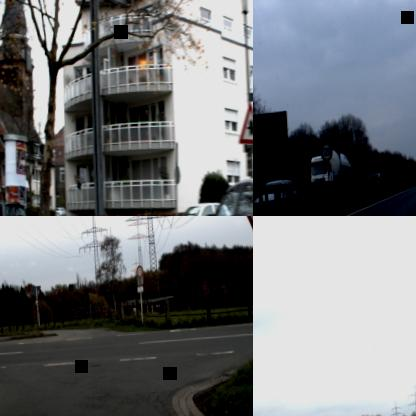give way: (240, 216, 253, 247)
no traffic both ways: (135, 263, 143, 278)
priority at next intersection: (235, 100, 253, 145)
speed limit 120: (318, 140, 333, 162)
